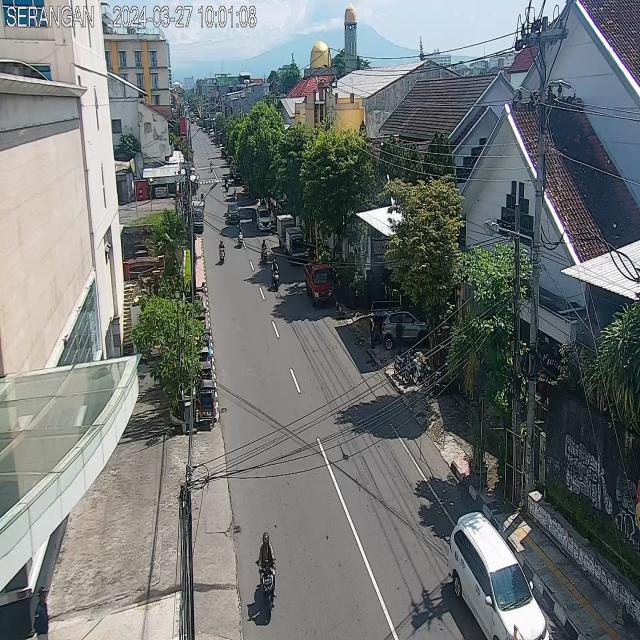car: (447, 504, 547, 640), (257, 204, 271, 232), (226, 202, 240, 224)
motorcycle: (256, 530, 278, 624), (270, 252, 280, 293), (260, 234, 268, 269), (218, 238, 226, 266), (237, 222, 243, 250), (223, 176, 230, 193), (232, 188, 238, 204), (210, 160, 213, 172)
truck: (304, 263, 332, 305), (286, 227, 305, 265), (277, 215, 295, 246)
